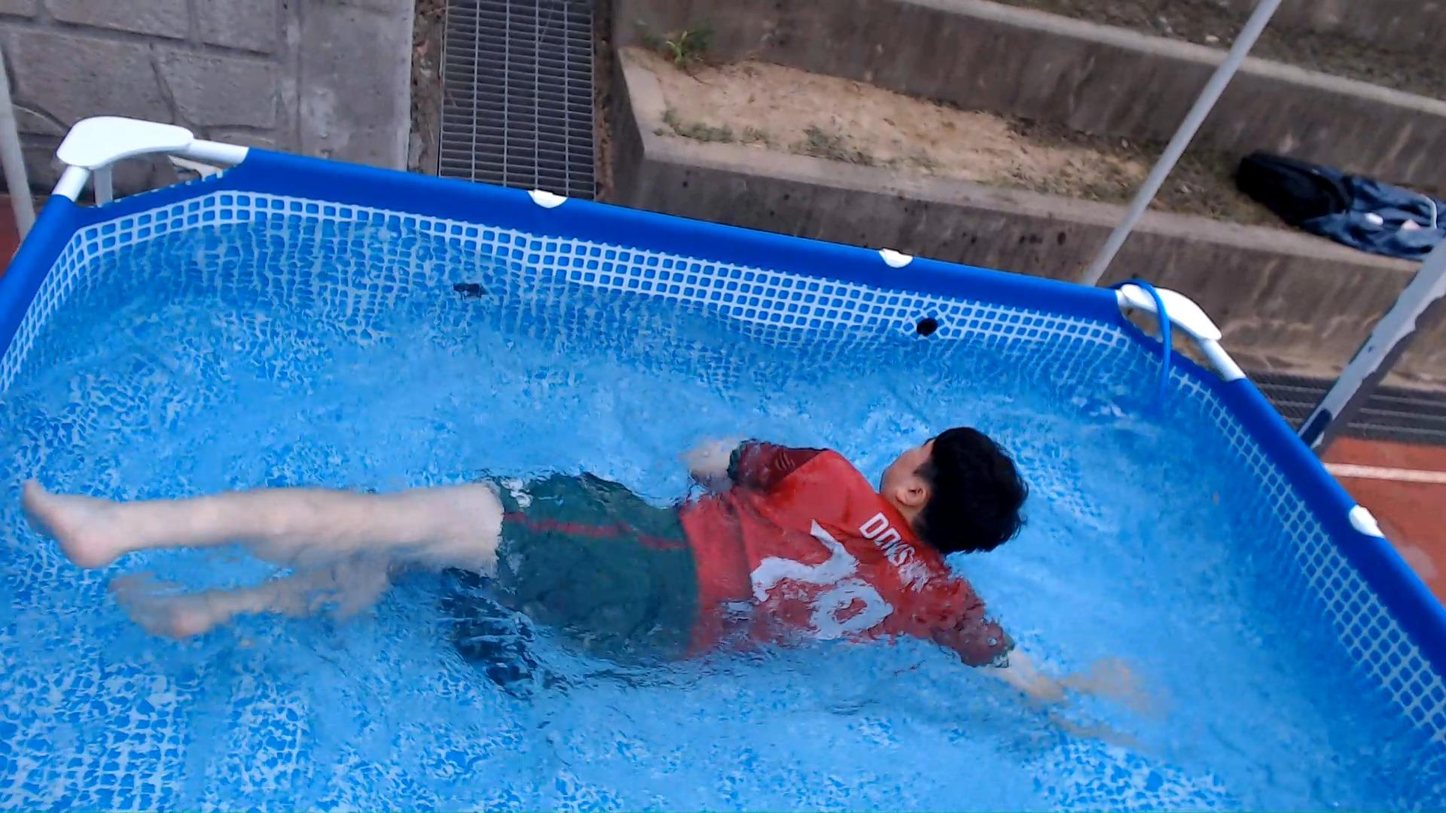Swimming: (0, 319, 1191, 769)
